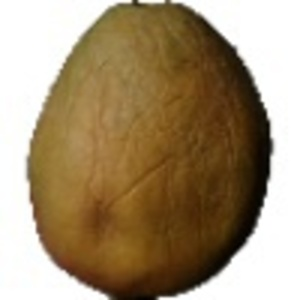mamão: (24, 2, 279, 294)
